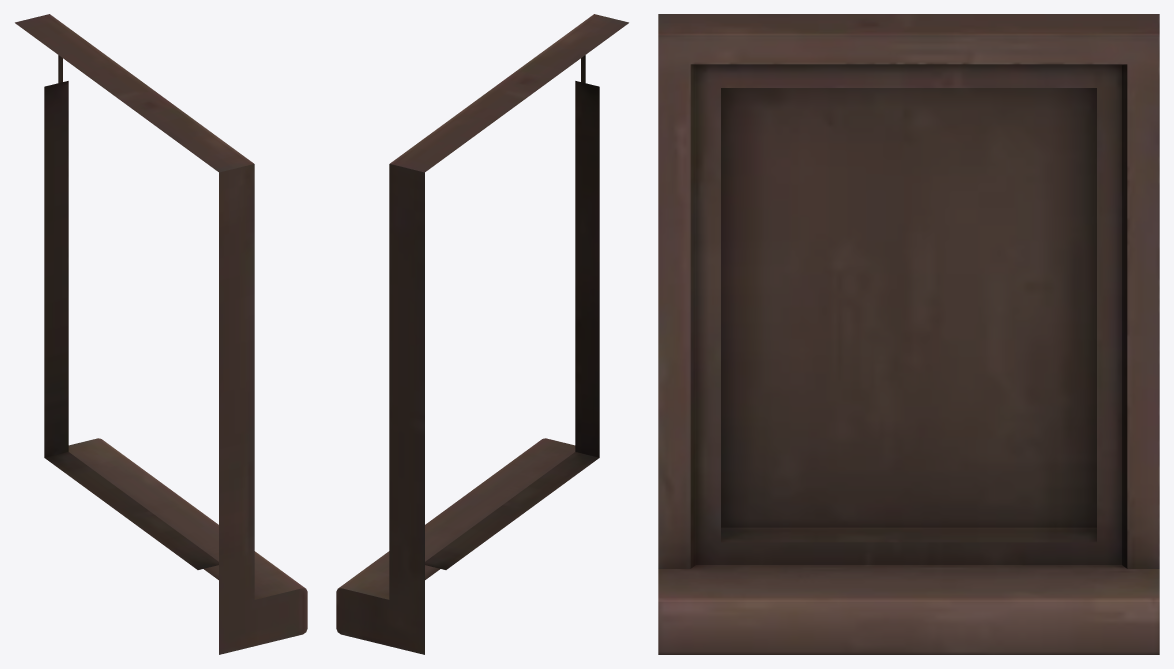
The picture shows the model from 3 angles, left to right: view 1: azimuth 30°, elevation 25°; view 2: azimuth 150°, elevation 25°; view 3: azimuth 270°, elevation 25°; orthographic projection. The views are drawn at different scales.
Visible parts, largest first — view 1: body0_model0_lod0_mesh0; view 2: body0_model0_lod0_mesh0; view 3: body0_model0_lod0_mesh0.
Boxes of the visible parts, <box> form: body0_model0_lod0_mesh0: <box>15,14,307,654</box>; body0_model0_lod0_mesh0: <box>336,14,628,654</box>; body0_model0_lod0_mesh0: <box>658,14,1159,654</box>.
Size of the model in its own units: 10 by 52 by 40.
1 material, 1 textured.
